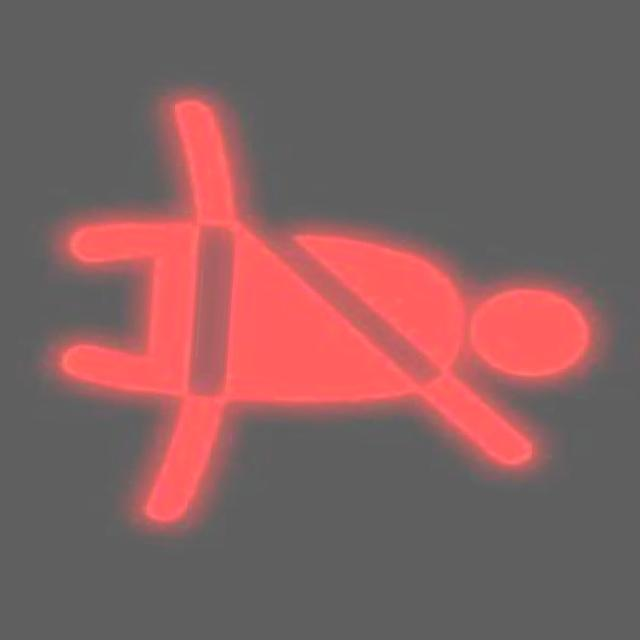kontrolka: (73, 70, 626, 572)
